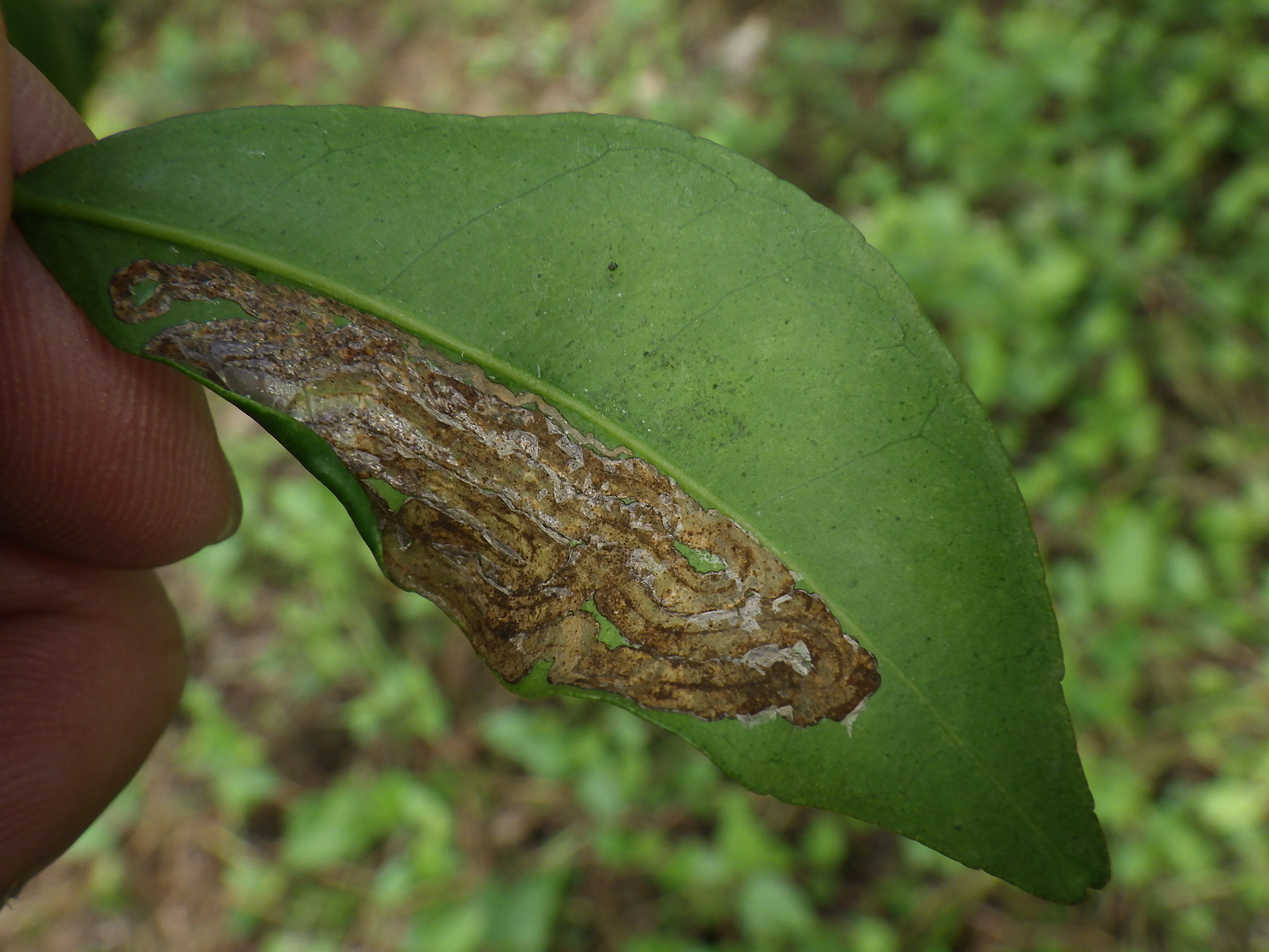Citrus_Leaf_Miner: (110, 259, 879, 728)
